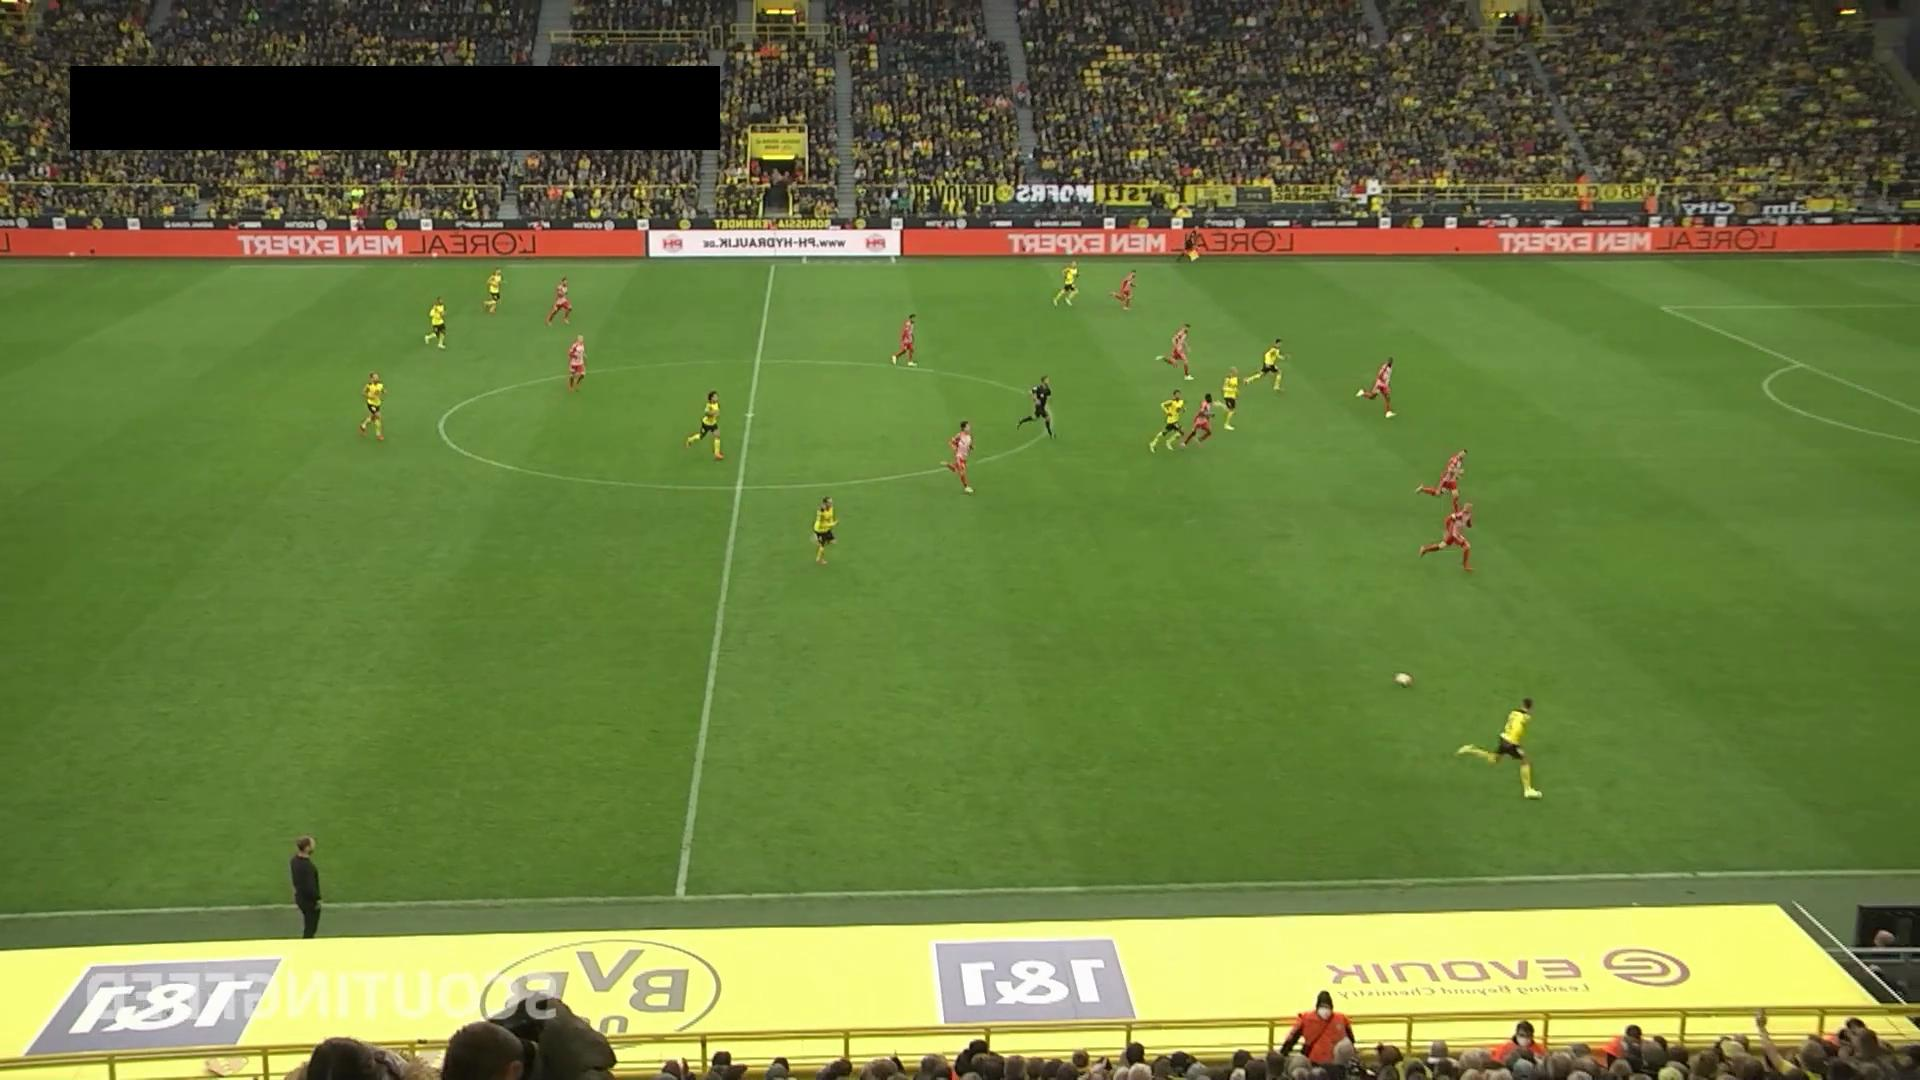ball: (1393, 672, 1413, 687)
player: (1454, 696, 1542, 799), (1418, 494, 1474, 572), (1415, 449, 1468, 516), (683, 389, 724, 462), (937, 420, 975, 494), (1243, 337, 1289, 392), (1356, 356, 1396, 418), (1148, 388, 1186, 453), (1156, 322, 1194, 381), (1210, 366, 1241, 431), (359, 371, 387, 441), (1180, 392, 1214, 448), (812, 496, 838, 565), (890, 313, 918, 367), (1052, 260, 1082, 307), (422, 296, 448, 349), (545, 276, 572, 326), (1110, 269, 1137, 311), (567, 334, 586, 391), (484, 268, 503, 314)
referee: (1014, 374, 1054, 438), (1174, 222, 1203, 265)
